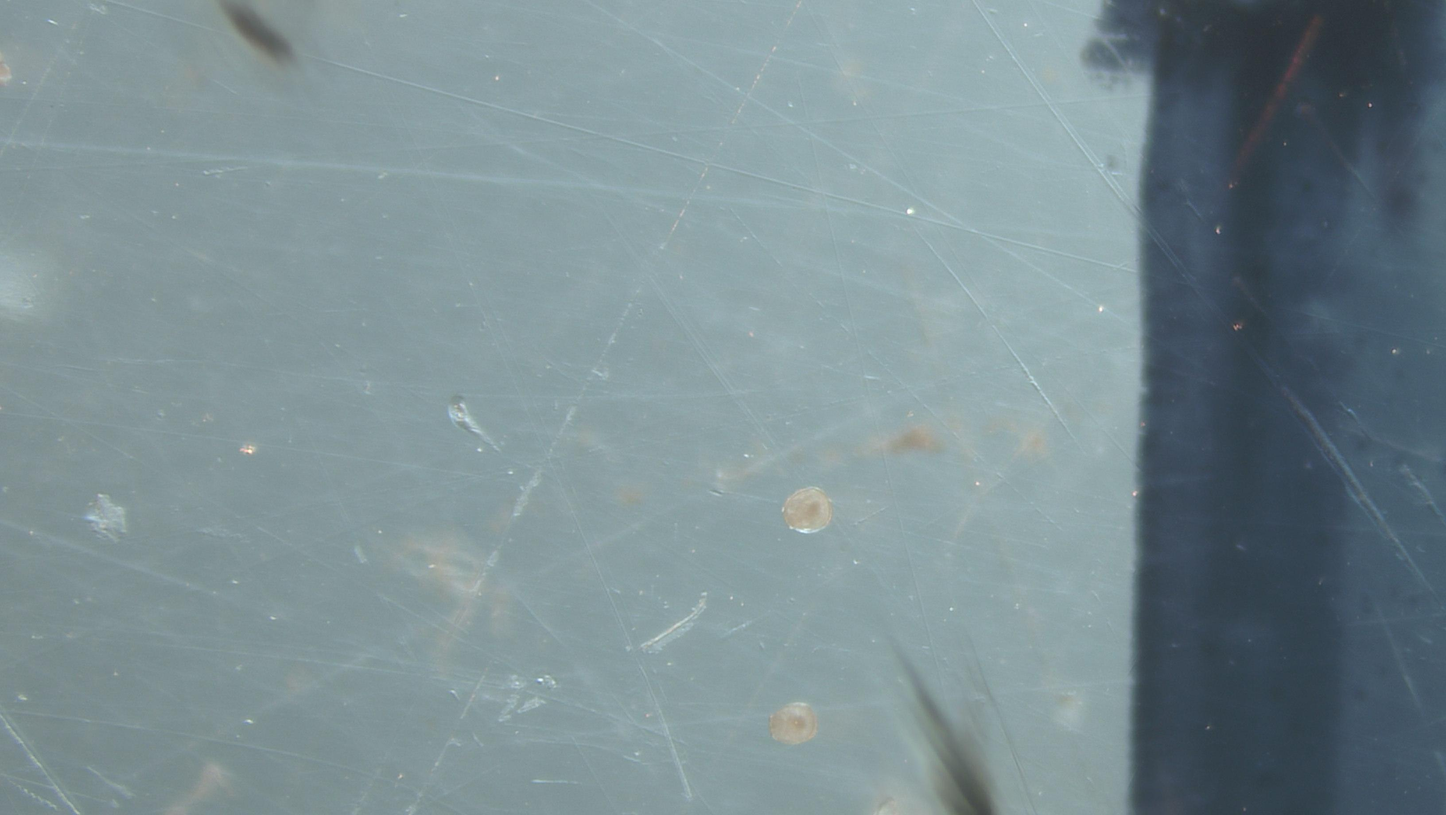live: (783, 488, 833, 534), (770, 702, 818, 745)
